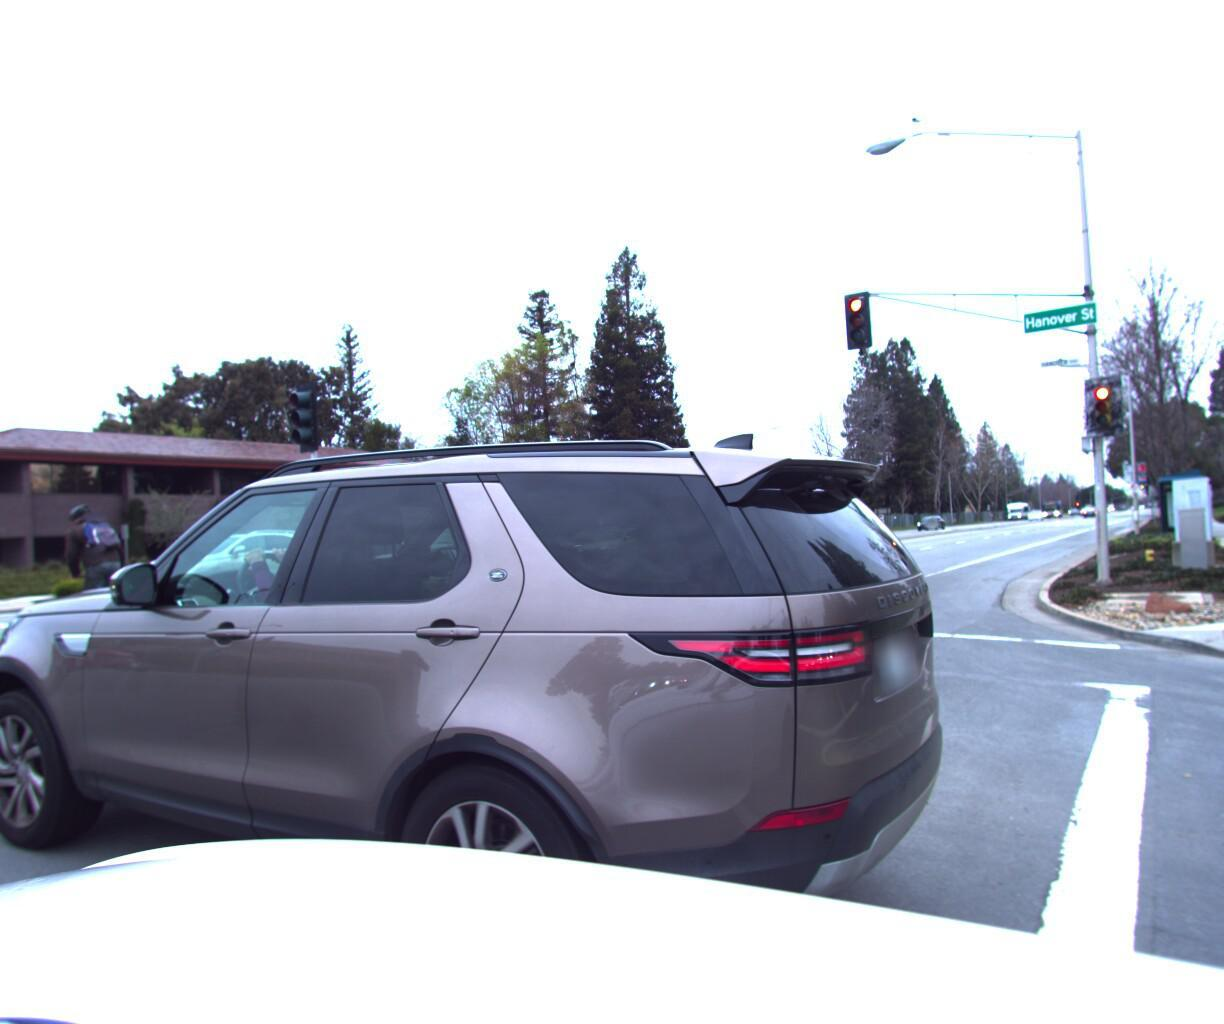bicycle: (3, 481, 161, 661)
car: (0, 312, 1023, 1024), (120, 519, 340, 603), (827, 501, 892, 536), (913, 513, 948, 529)
